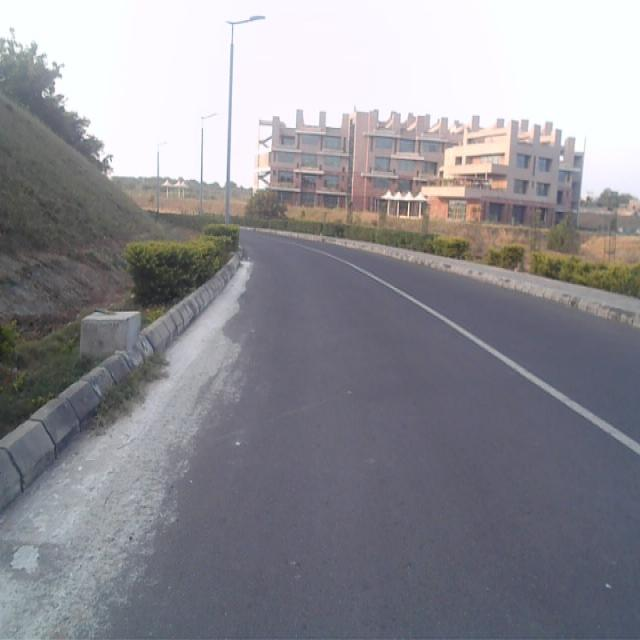lane: (0, 239, 640, 640)
